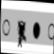correct: (32, 15, 42, 44)
not correct: (14, 16, 29, 51)
